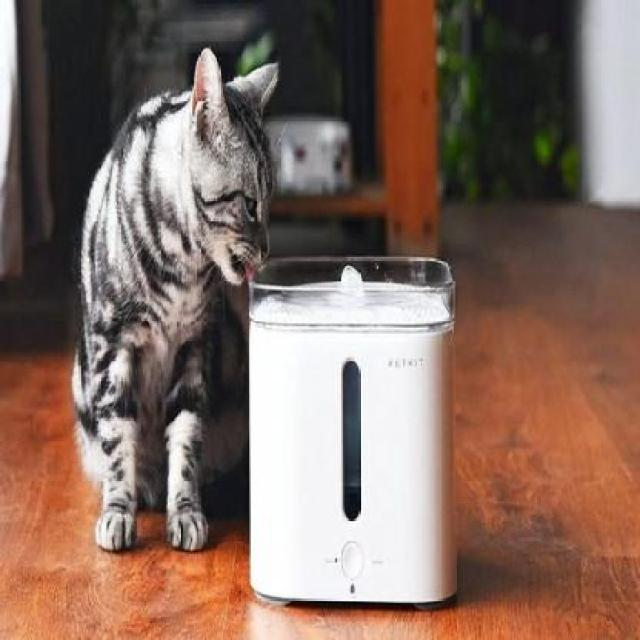cooler: (246, 251, 460, 614)
